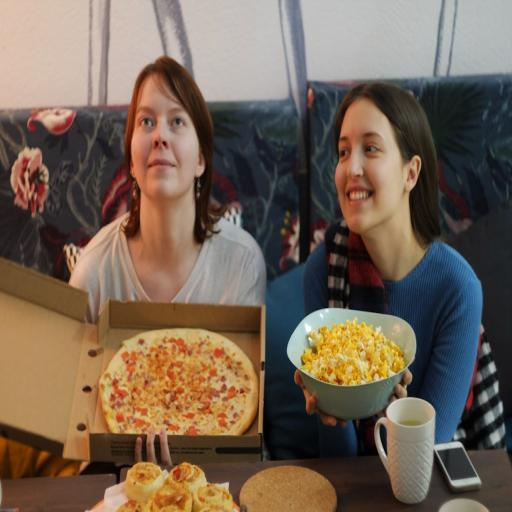face: (335, 99, 417, 236), (131, 75, 204, 201)
